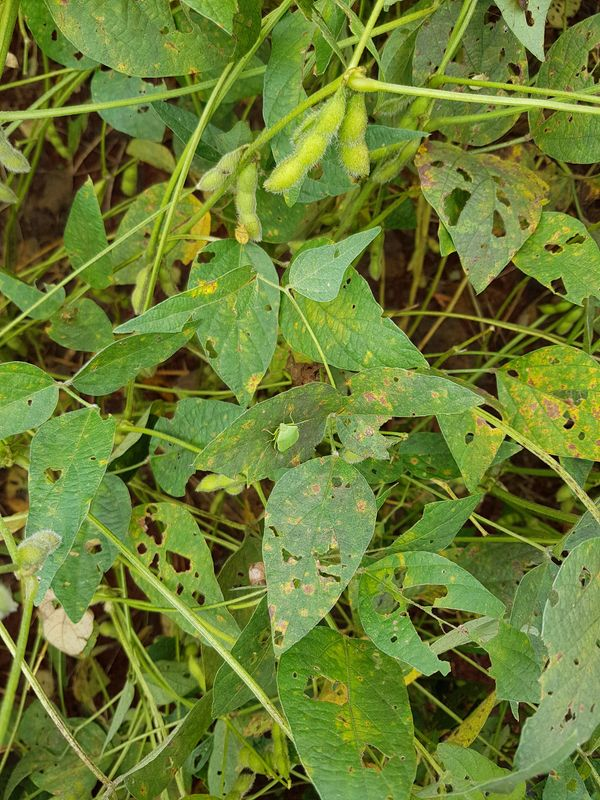Euschistus_heros_ninfa: (229, 220, 258, 250), (463, 69, 495, 96)
Nezara_viridula_adulto: (250, 407, 311, 461)
